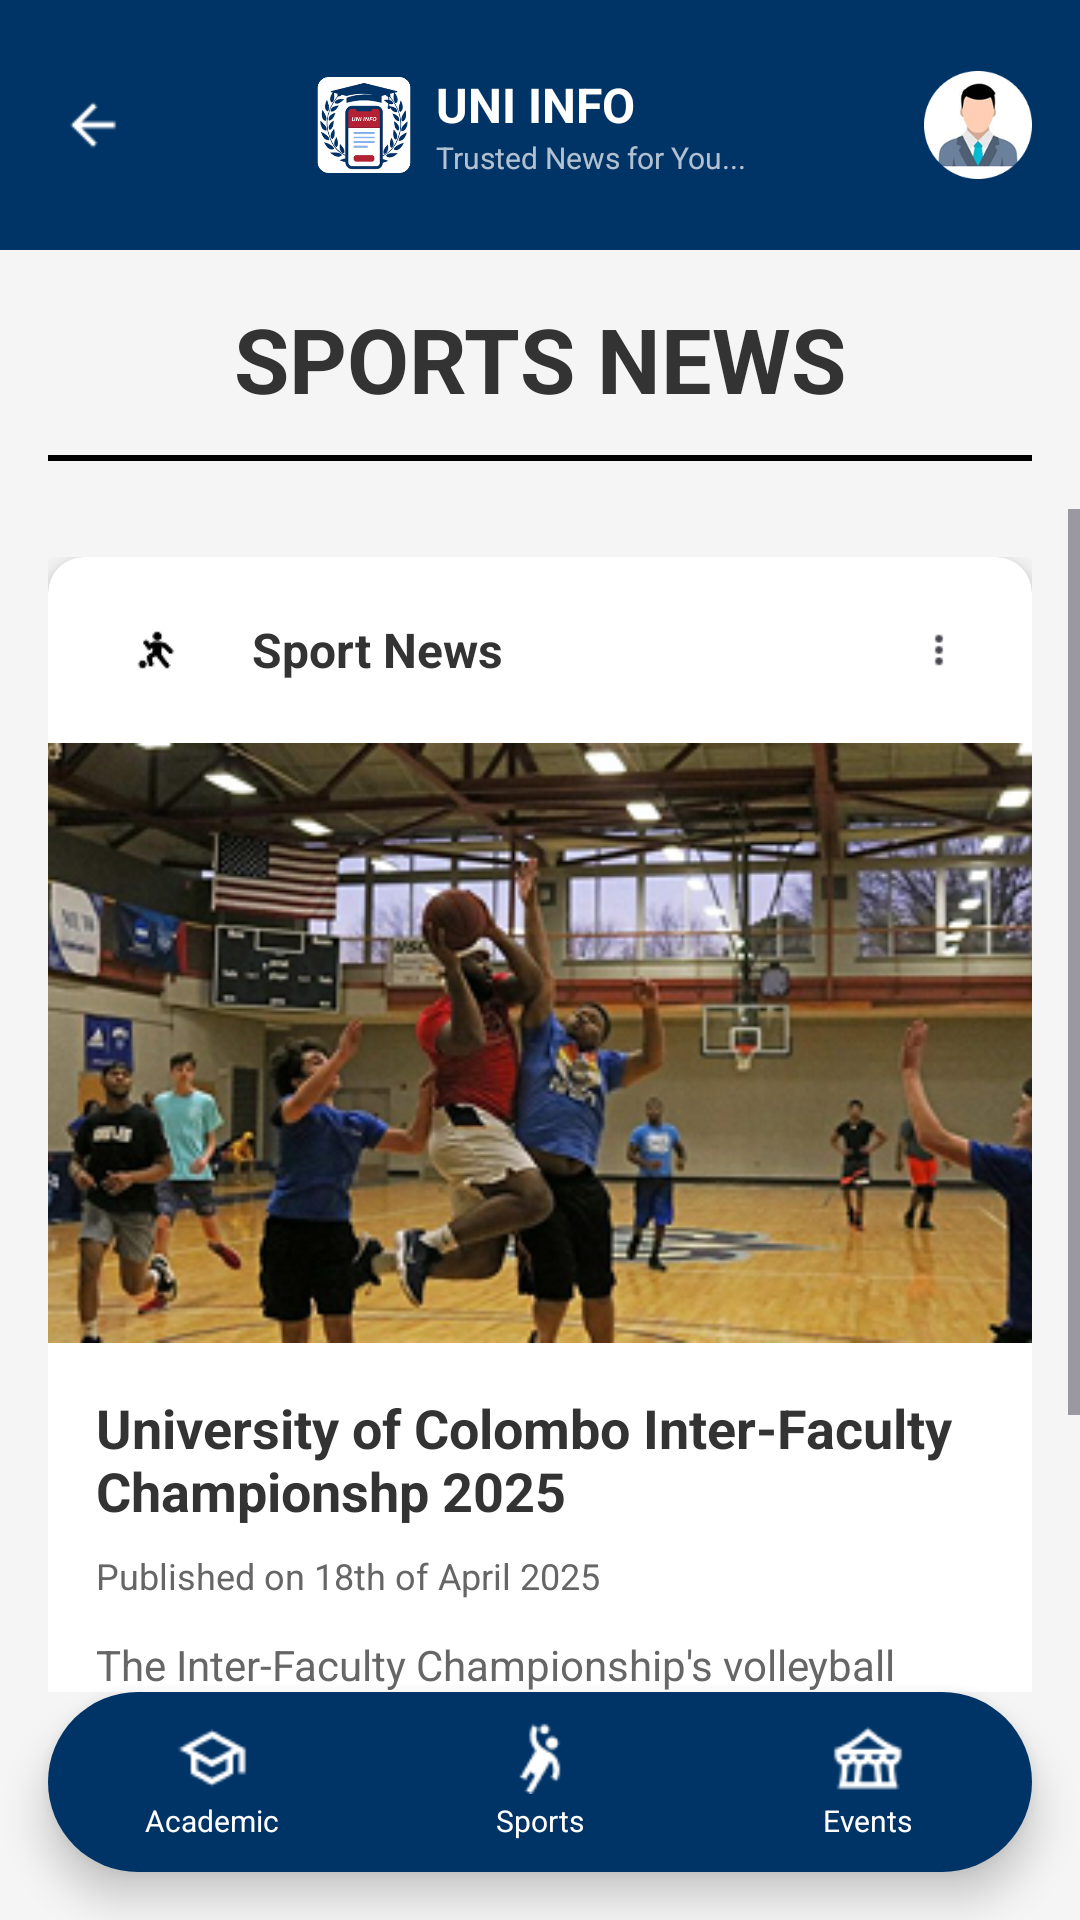

Icon click points for this 1080px x 1920px phone screenshot, format (x=x, y=y):
arrow back: (x=93, y=125)
more: (x=939, y=650)
person: (x=978, y=125)
